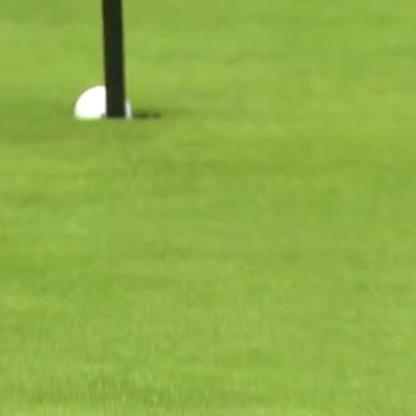golfball: (69, 93, 131, 130)
